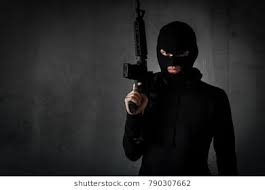rifle: (123, 1, 155, 117)
